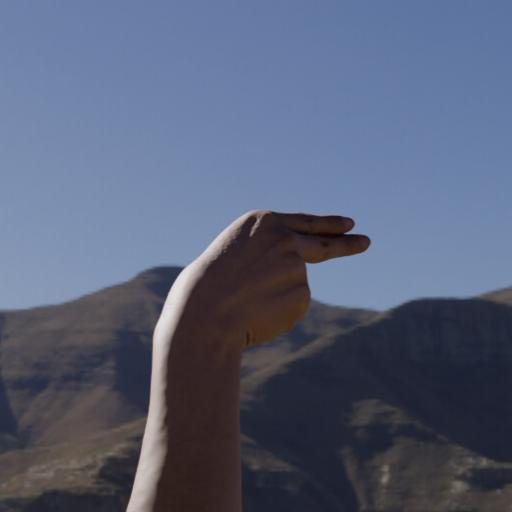H: (136, 180, 410, 354)
